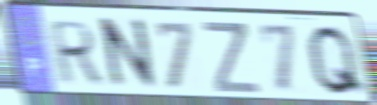7: (154, 20, 198, 93), (258, 22, 300, 96)
N: (100, 15, 159, 93)
Q: (305, 22, 371, 98)
R: (48, 18, 105, 87)
Z: (200, 19, 263, 96)
